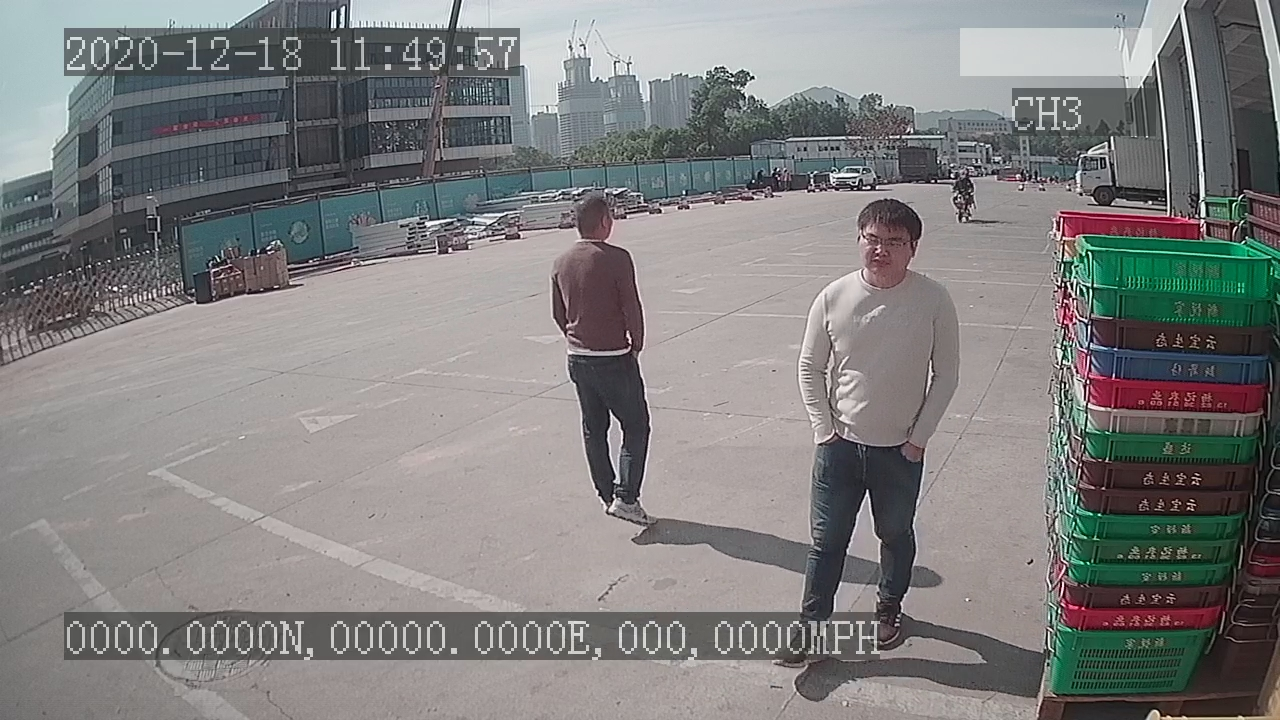person: (545, 197, 658, 529)
